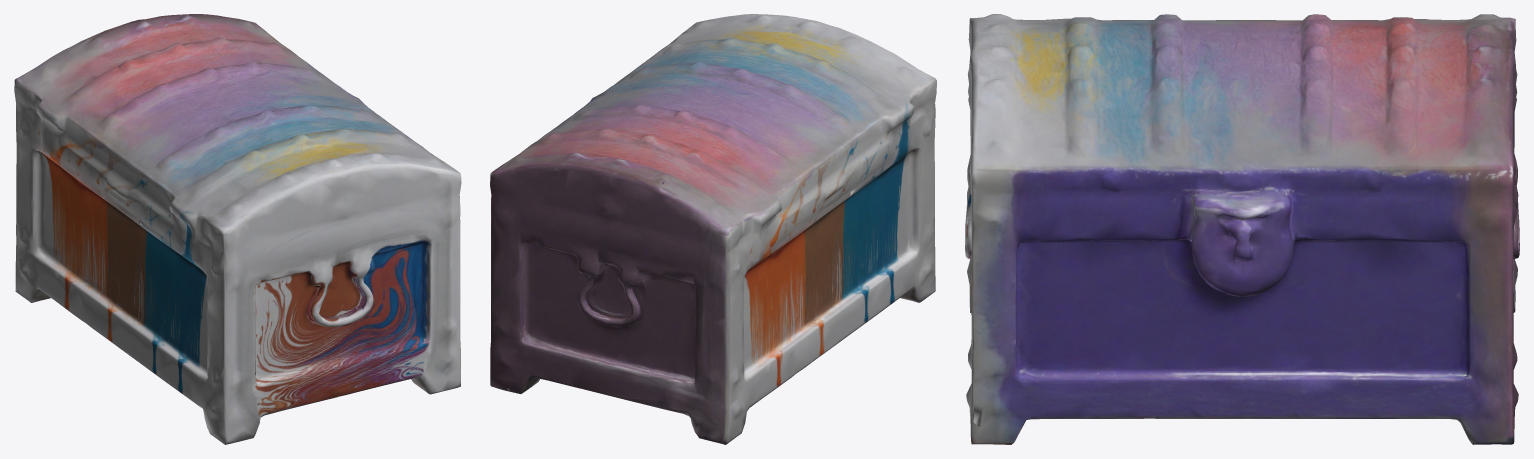
File: chest.glb
3 renders of one model, left to right at view 1: azimuth 30°, elevation 25°; view 2: azimuth 150°, elevation 25°; view 3: azimuth 270°, elevation 25°, orthographic. The views are drawn at different scales.
Bounding box in the file's own units: 1.42 × 1.29 × 2.
Materials: 1 (1 with a texture image).
